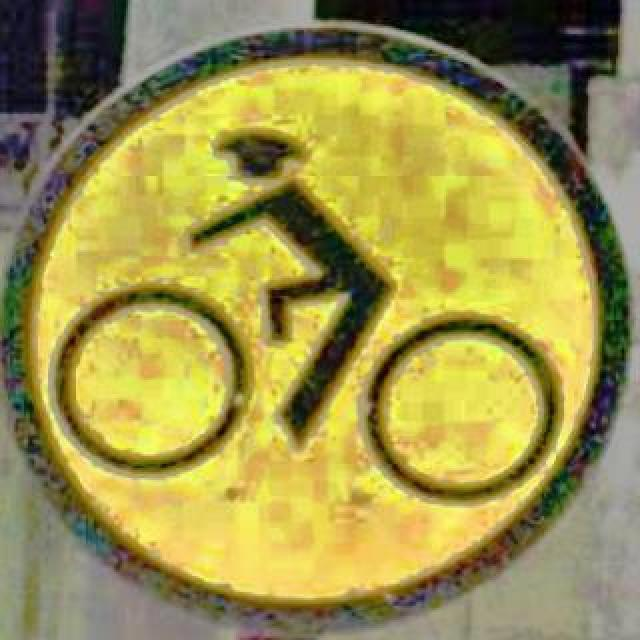bike lane: (0, 20, 628, 628)
